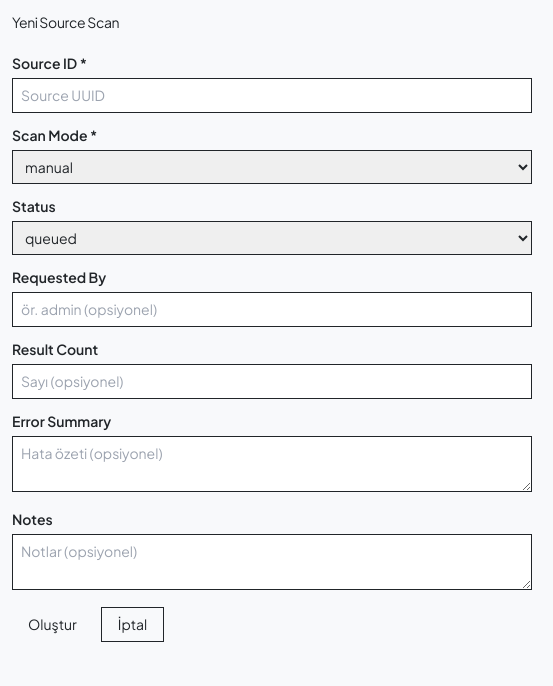
Test case: SourceScan form smoke tests › result_count invalid value shows error
The image size is (553, 686).
Type "test-source-id" into the field with placeholder "Source UUID" at (272, 96), box [12,78,532,113]
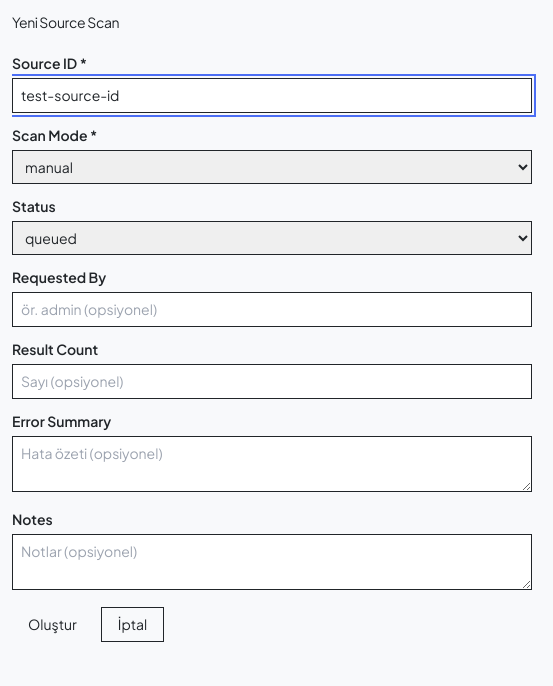
Type "-5" into the field with placeholder "Sayı (opsiyonel)" at (272, 382), box [12,364,532,399]
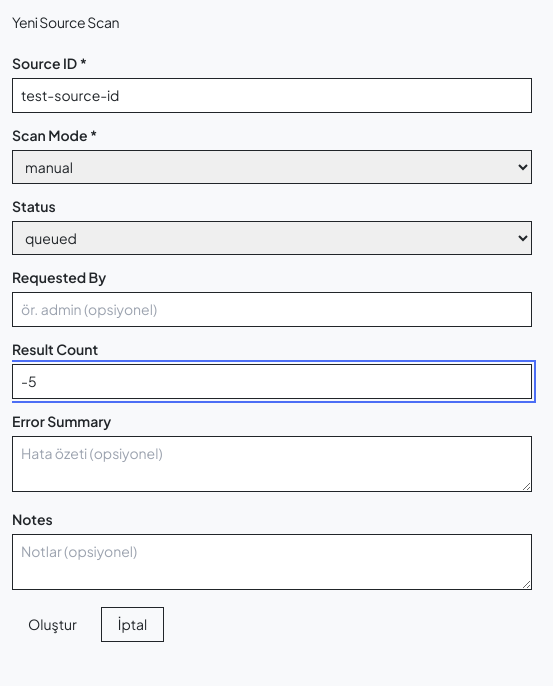
Click the button "Oluştur" at (52, 624), box [12,607,93,642]
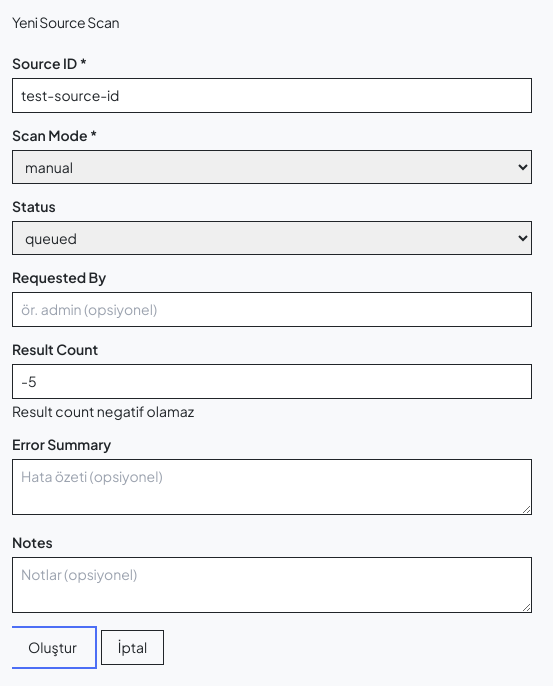
Check: the text "Result count negatif olamaz" is shown, box [12,402,194,420]
